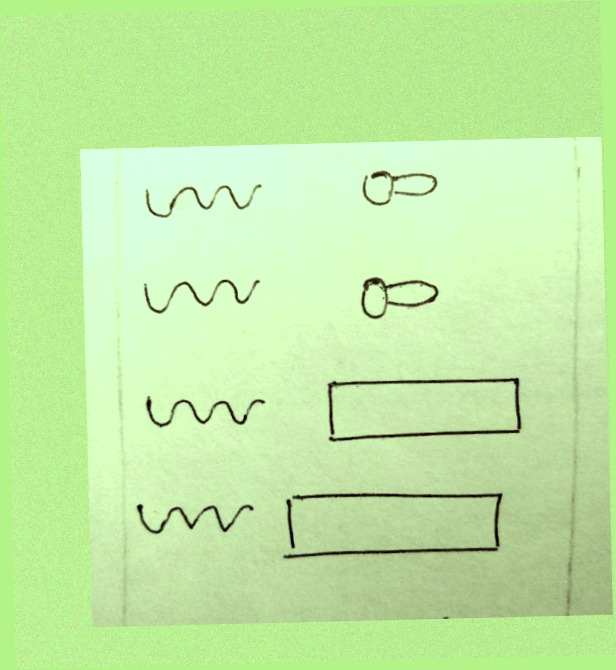switch: (354, 268, 465, 337), (349, 157, 448, 219)
text: (136, 378, 271, 445), (129, 490, 259, 548), (135, 266, 265, 322), (138, 172, 267, 226)
text_input: (274, 476, 511, 569), (316, 365, 532, 451)
